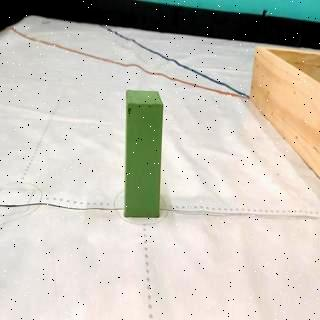greenbox: (123, 88, 163, 220)
